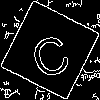C: (25, 25, 74, 80)
